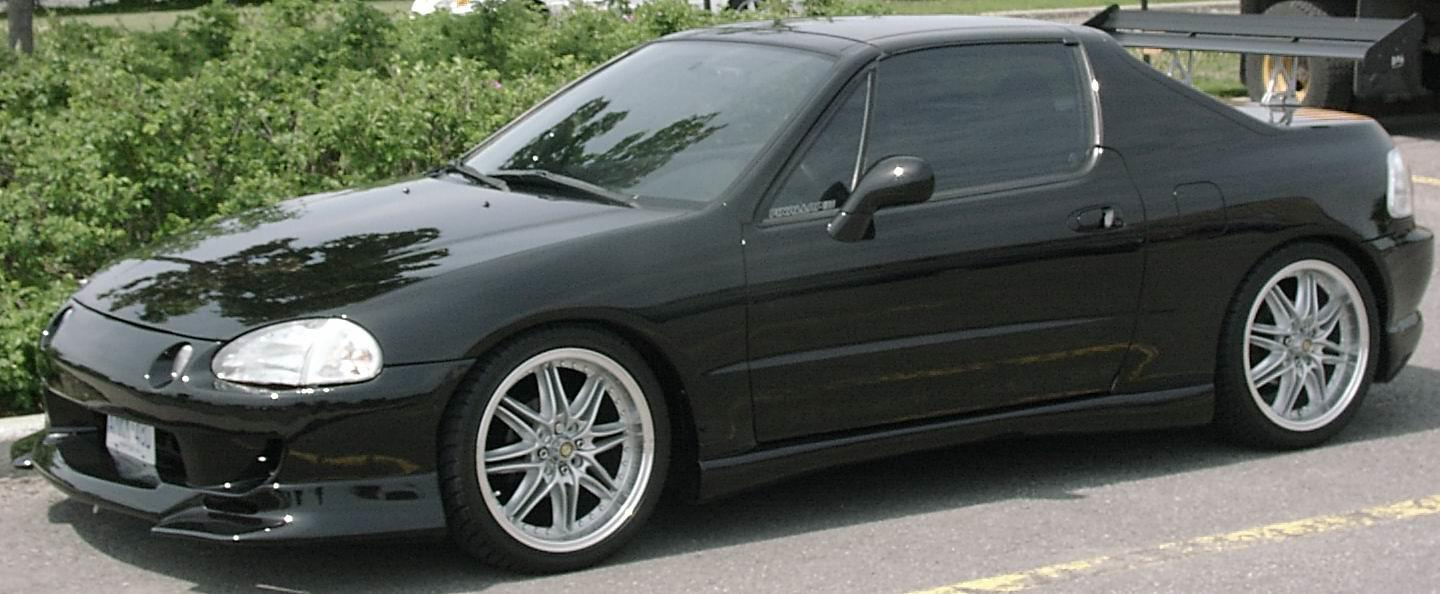RunningBoard-Dent: (684, 370, 1218, 450)
